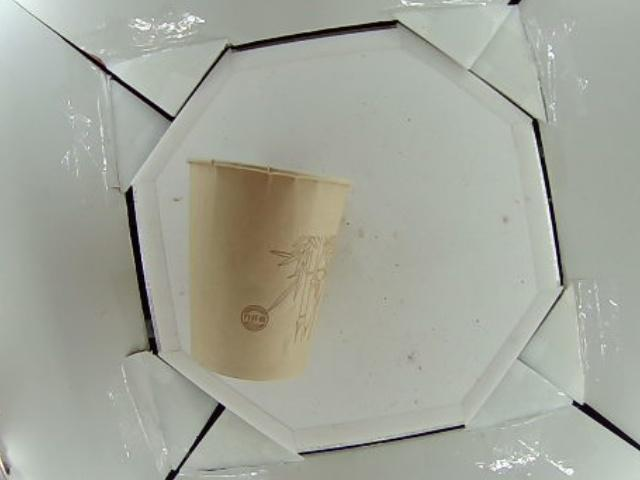Cup: (186, 158, 349, 380)
